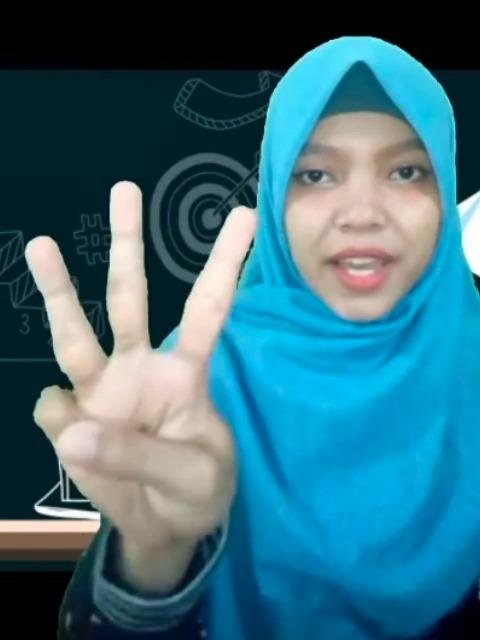W: (19, 177, 261, 537)
